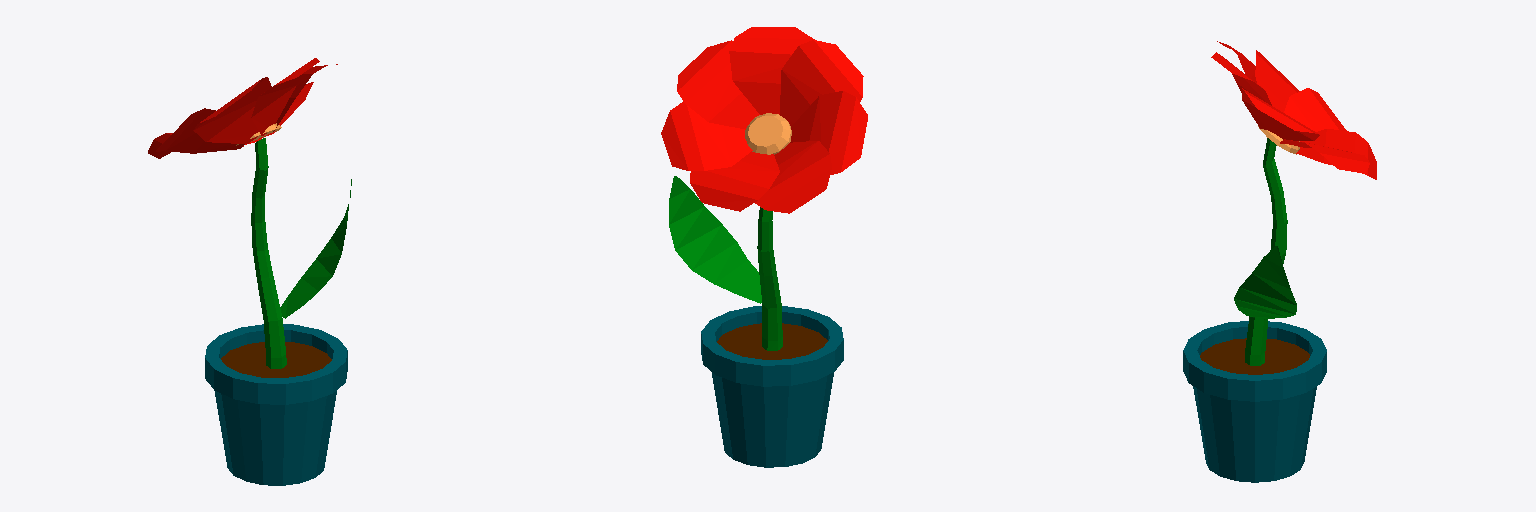
3 views of the same model, side by side, from view 1: azimuth 30°, elevation 25°; view 2: azimuth 150°, elevation 25°; view 3: azimuth 270°, elevation 25° (orthographic).
Visible parts, largest first — view 1: Pot_Cylinder, Plane_Plane.001, PlantStick_Circle.001, Plane.001_Plane.002; view 2: Plane_Plane.001, Pot_Cylinder, Plane.001_Plane.002, PlantStick_Circle.001, PlantCenter_Circle.003; view 3: Pot_Cylinder, Plane_Plane.001, Plane.001_Plane.002, PlantStick_Circle.001.
Boxes of the visible parts, x1=… form: Pot_Cylinder: x1=205, y1=324, x2=347, y2=485; Plane_Plane.001: x1=148, y1=58, x2=337, y2=158; PlantStick_Circle.001: x1=251, y1=138, x2=286, y2=368; Plane.001_Plane.002: x1=280, y1=179, x2=351, y2=318; Plane_Plane.001: x1=661, y1=27, x2=867, y2=213; Pot_Cylinder: x1=701, y1=306, x2=843, y2=467; Plane.001_Plane.002: x1=669, y1=176, x2=761, y2=303; PlantStick_Circle.001: x1=757, y1=207, x2=782, y2=350; PlantCenter_Circle.003: x1=745, y1=113, x2=791, y2=154; Pot_Cylinder: x1=1183, y1=321, x2=1326, y2=482; Plane_Plane.001: x1=1211, y1=41, x2=1376, y2=179; Plane.001_Plane.002: x1=1234, y1=246, x2=1296, y2=318; PlantStick_Circle.001: x1=1245, y1=138, x2=1287, y2=365.
Size of the model in its own units: 3.47 by 6.91 by 3.
Materials: 2 (1 with a texture image).